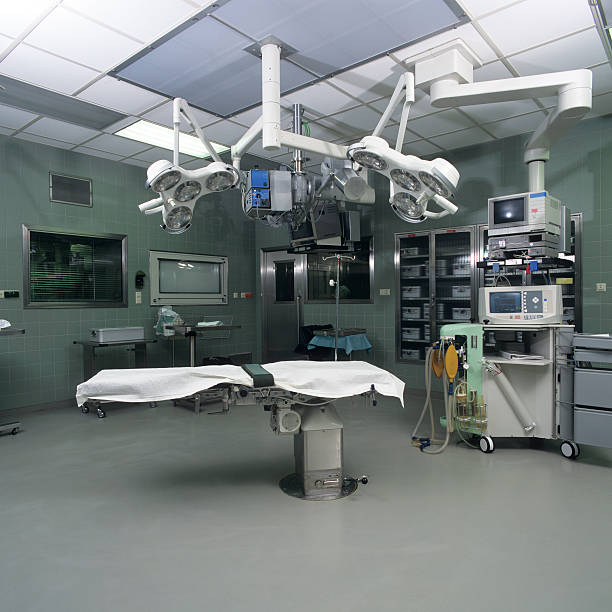TV: (140, 249, 236, 304)
bedside_monitor: (484, 284, 565, 332), (486, 192, 566, 237)
cabinet: (394, 222, 484, 372)
door_handle: (295, 292, 300, 345)
handle: (427, 291, 440, 316)
iv_pole: (322, 253, 358, 363)
medical_drawer: (568, 331, 612, 469)
operating_bed: (77, 359, 408, 503)
surgical_light: (347, 134, 460, 227), (137, 157, 241, 234)
utility_cart: (72, 336, 159, 422), (174, 322, 243, 422)
